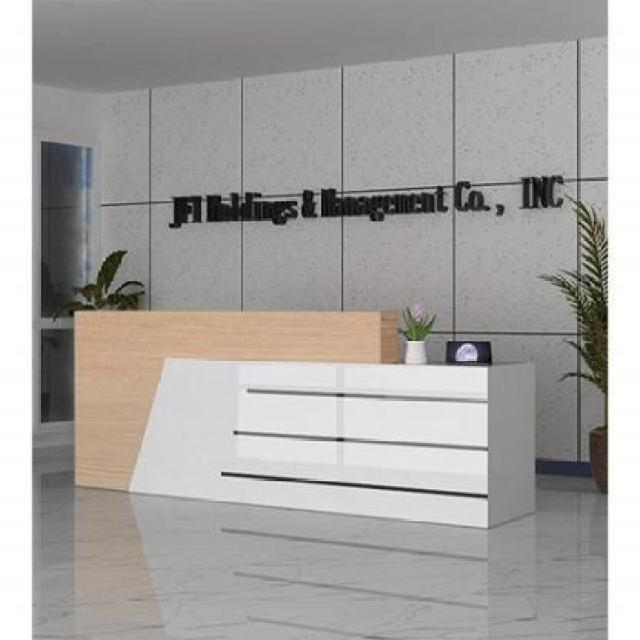frontdesk: (61, 291, 544, 540)
